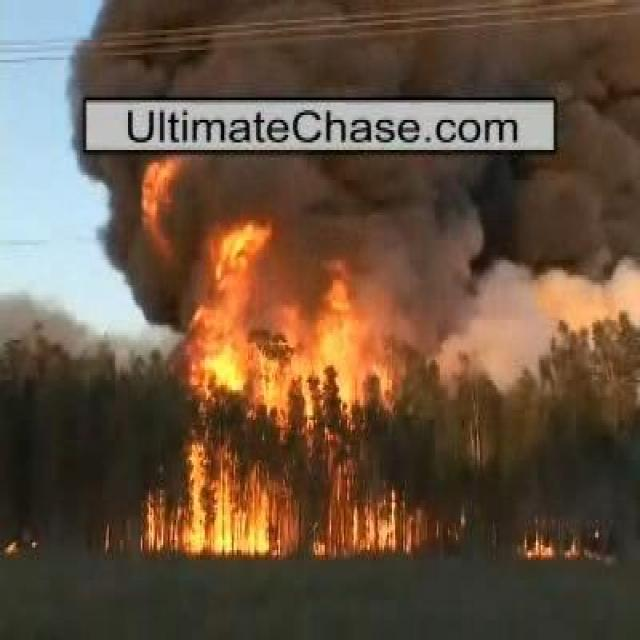fire: (186, 480, 288, 558)
smoke: (110, 157, 600, 263), (62, 0, 596, 92)
